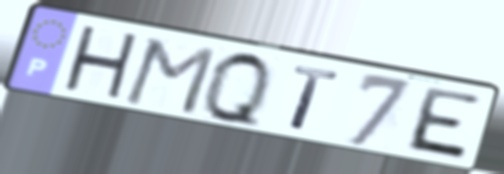7: (349, 70, 417, 151)
E: (400, 84, 485, 165)
H: (58, 22, 143, 106)
M: (119, 36, 220, 119)
Q: (200, 48, 274, 133)
T: (287, 62, 343, 135)
